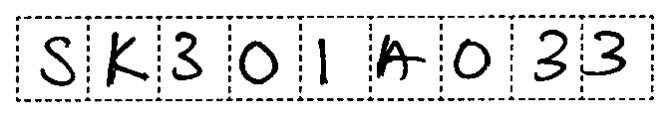0: (236, 35, 284, 91), (448, 37, 496, 84)
1: (306, 30, 347, 92)
3: (528, 24, 574, 88), (586, 26, 630, 80), (170, 28, 208, 86)
A: (373, 30, 430, 86)
K: (101, 28, 153, 88)
S: (36, 31, 80, 89)
